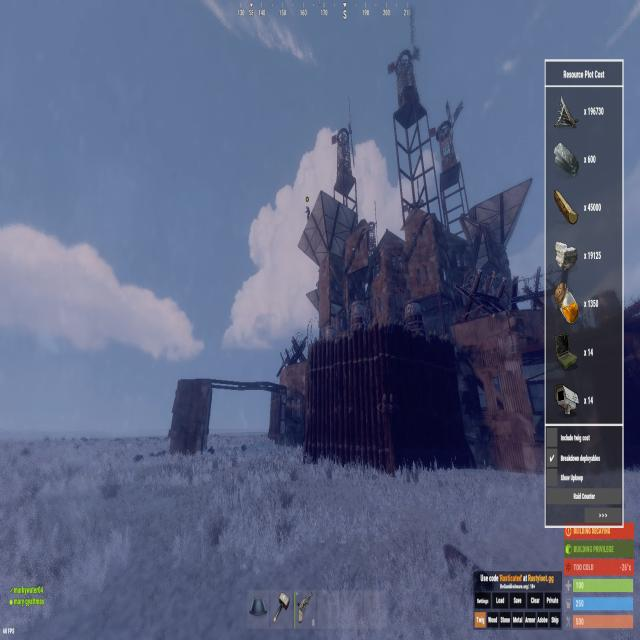Player: (304, 205, 310, 224)
